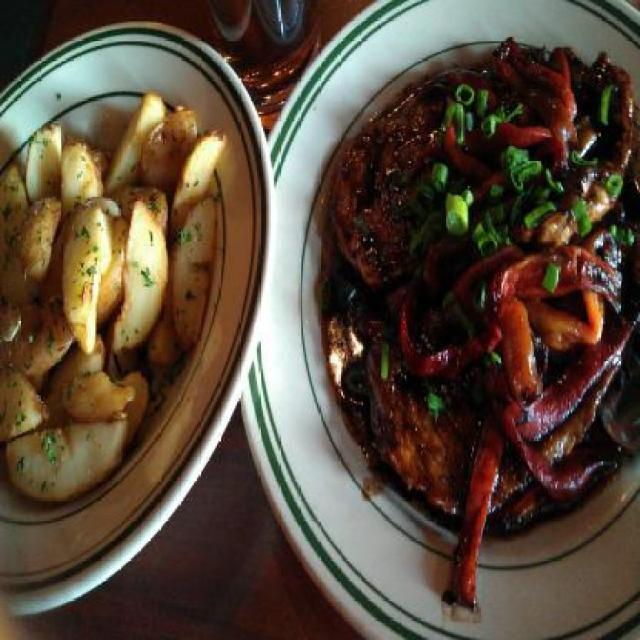Potato: (0, 90, 228, 504)
